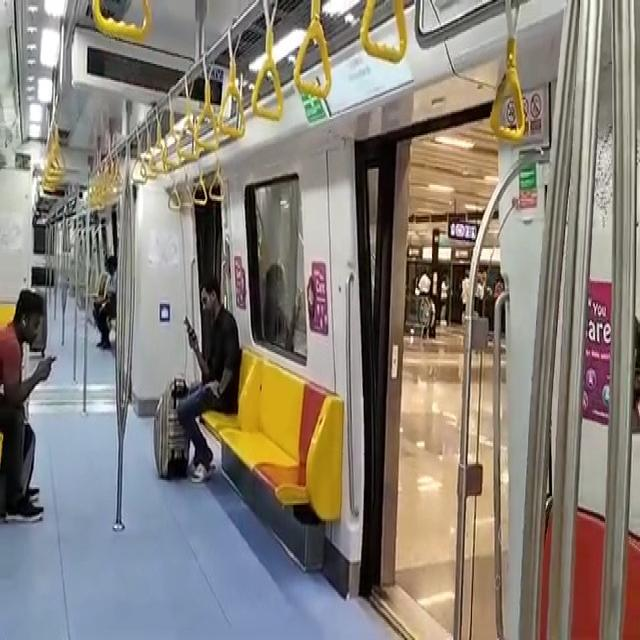bus-door: (352, 115, 516, 640)
